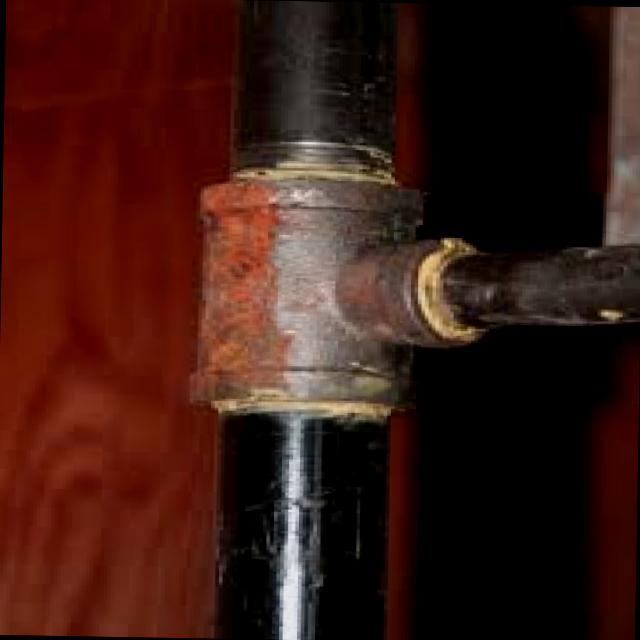gas: (195, 177, 423, 416), (219, 416, 385, 640), (336, 236, 640, 345), (235, 0, 395, 181)
